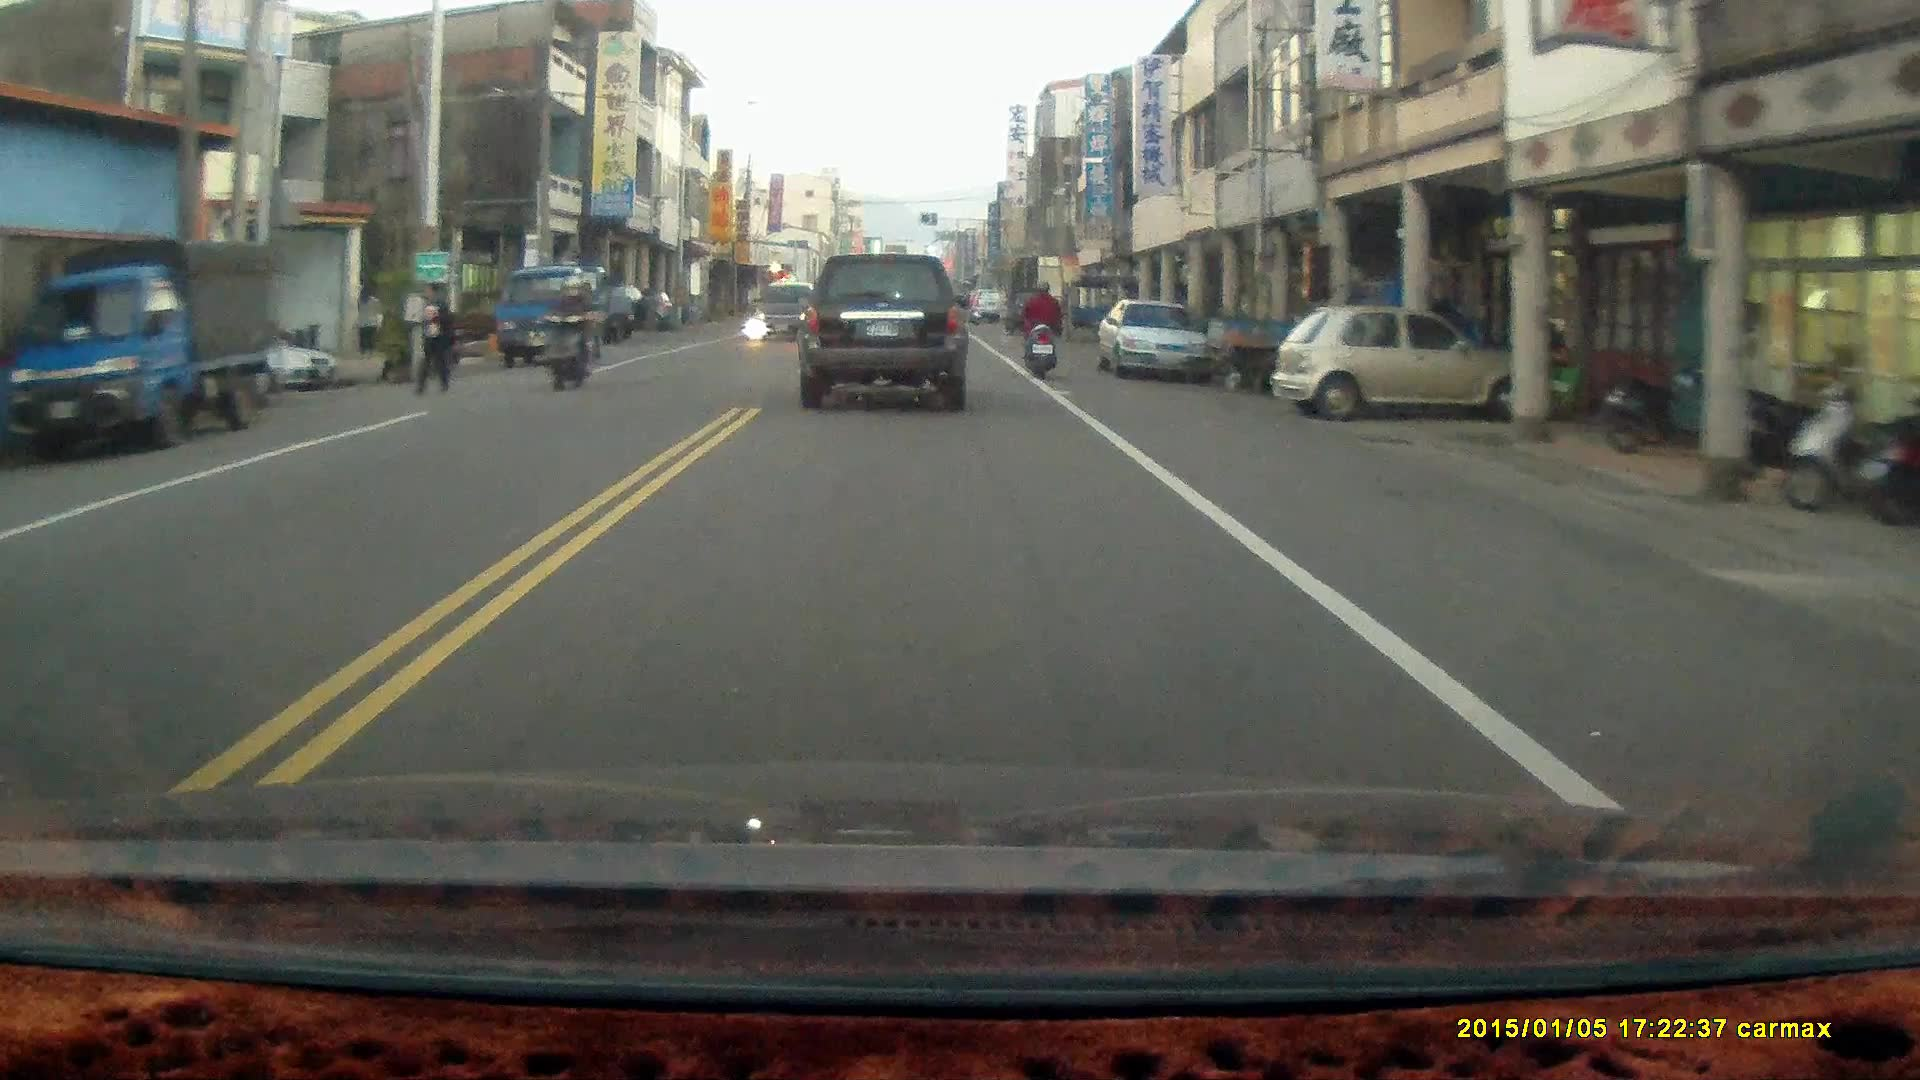pedestrian: (410, 274, 456, 398)
rider: (542, 278, 597, 392), (1021, 273, 1061, 373)
vehicle: (6, 237, 279, 458), (1274, 304, 1539, 418), (795, 250, 972, 413), (498, 265, 635, 365), (200, 317, 337, 394), (1099, 300, 1215, 380)
